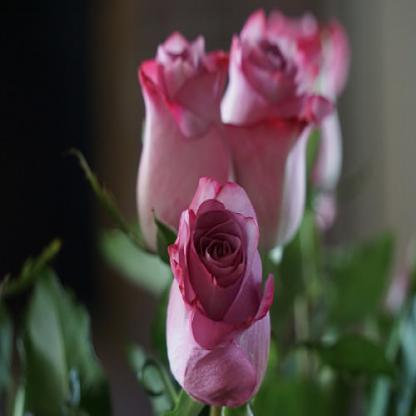Rose-Mawar: (167, 177, 273, 411)
